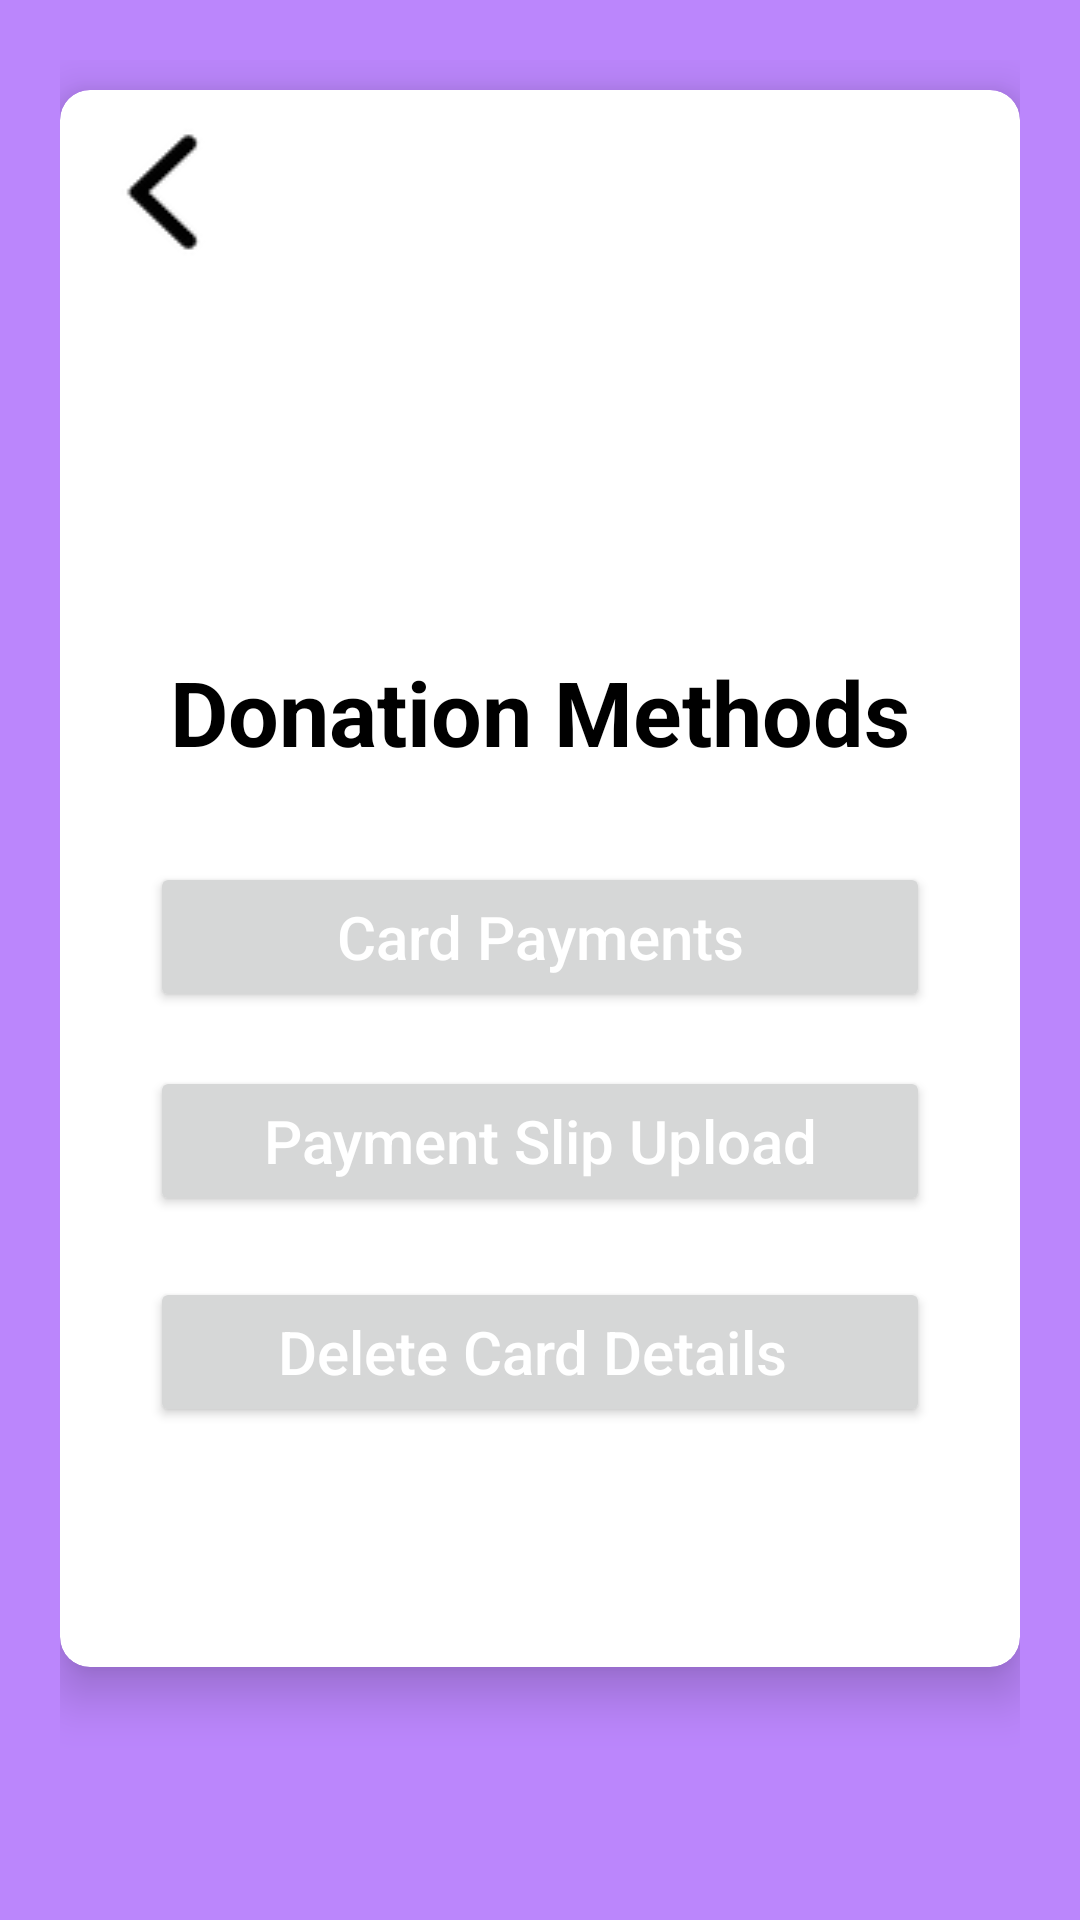

Icon click points for this 1080×1920 phone screenshot, format (x,y):
back: (162,192)
